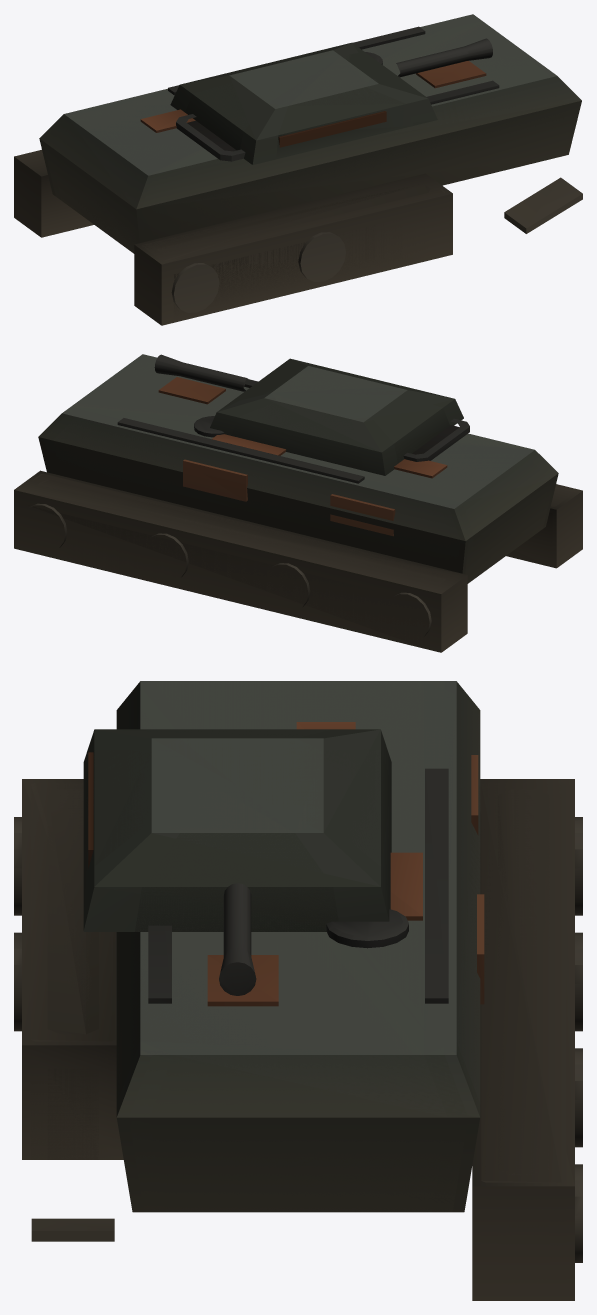
File: neutral_wreck_light_vehicle.glb
3 views of the same model, one above another, from view 1: azimuth 30°, elevation 25°; view 2: azimuth 150°, elevation 25°; view 3: azimuth 270°, elevation 25° (orthographic). The views are drawn at different scales.
Parts seen in each view (by area): view 1: hull (×3), turret (×2), barrel; view 2: hull (×3), turret (×2), barrel; view 3: hull (×3), turret (×2), barrel.
Part boxes in pixels (left/top/right/bottom): hull (×3): left=14, top=14, right=582, bottom=325; turret (×2): left=170, top=42, right=437, bottom=164; barrel: left=396, top=38, right=492, bottom=77; hull (×3): left=14, top=354, right=582, bottom=652; turret (×2): left=210, top=358, right=463, bottom=475; barrel: left=154, top=354, right=247, bottom=391; hull (×3): left=14, top=681, right=582, bottom=1300; turret (×2): left=83, top=729, right=391, bottom=931; barrel: left=219, top=883, right=256, bottom=995.
Bounding box in the file's own units: 4.88 × 1.62 × 2.88.
